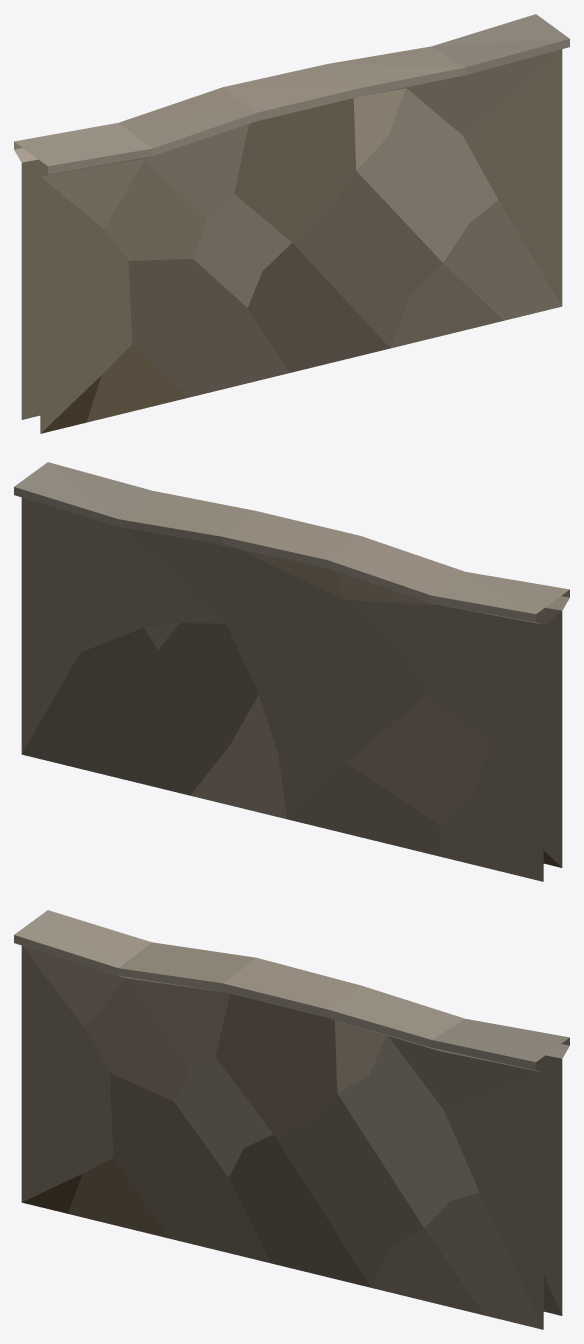
File: Wall_A-4m.fbx
3 views of the same model, one above another, from view 1: azimuth 30°, elevation 25°; view 2: azimuth 150°, elevation 25°; view 3: azimuth 330°, elevation 25° (orthographic).
Visible parts, largest first — view 1: Wall_A-4m; view 2: Wall_A-4m; view 3: Wall_A-4m.
Boxes of the visible parts, <box> form: Wall_A-4m: <box>14,14,569,433</box>; Wall_A-4m: <box>14,462,569,881</box>; Wall_A-4m: <box>14,910,569,1329</box>.
Size of the model in its own units: 400 by 202 by 45.
